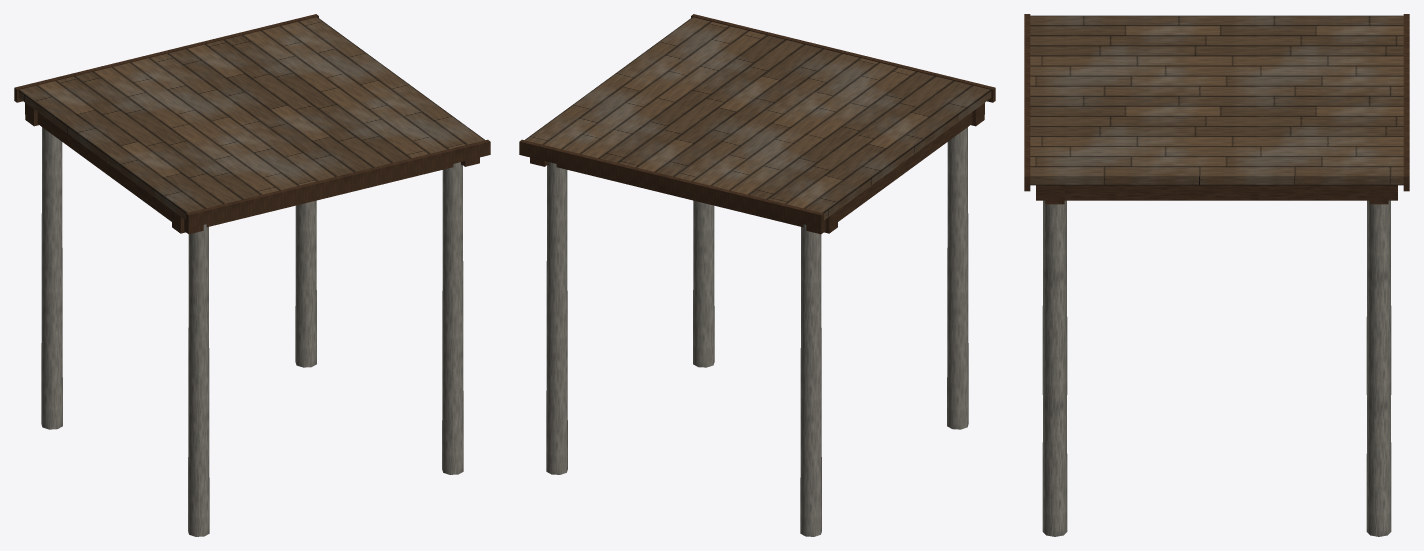
File: SM_Art_Pier_400x400x100_P425.gltf
3 views of the same model, side by side, from view 1: azimuth 30°, elevation 25°; view 2: azimuth 150°, elevation 25°; view 3: azimuth 270°, elevation 25° (orthographic). The views are drawn at different scales.
Visible parts, largest first — view 1: SM_Art_Pier_400x400x100_P425; view 2: SM_Art_Pier_400x400x100_P425; view 3: SM_Art_Pier_400x400x100_P425.
Boxes of the visible parts, x1,y1,x2,y2 form: SM_Art_Pier_400x400x100_P425: [14, 14, 490, 536]; SM_Art_Pier_400x400x100_P425: [519, 14, 995, 536]; SM_Art_Pier_400x400x100_P425: [1024, 14, 1409, 536].
Size of the model in its own units: 4.04 by 4.26 by 4.04.
3 materials, 3 textured.
